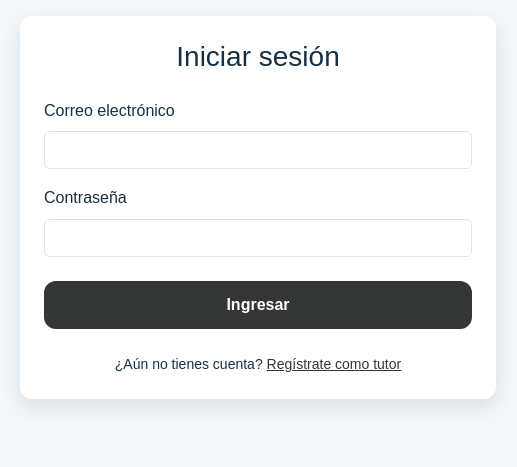
it: Login › con credenciales incorrectas muestra el error y no guarda sesión
The width and height of the screenshot is (517, 467).
Type "ana@correo.cl" into the field labelled "Correo electrónico" at (258, 150), box [44,131,472,169]
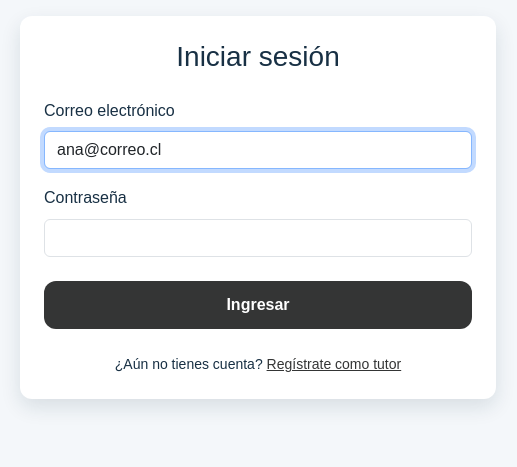
Type "mala" into the password field labelled "Contraseña" at (258, 238), box [44,219,472,257]
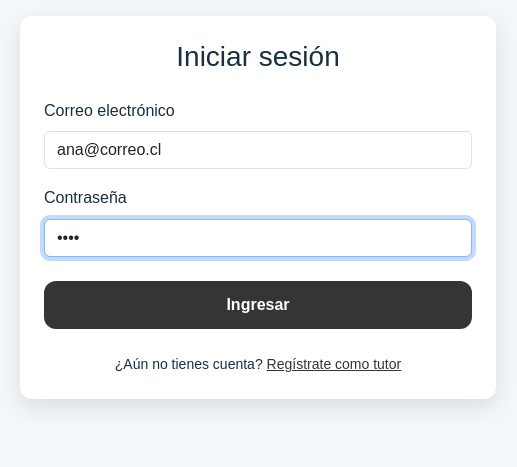
Click the button "Ingresar" at (258, 305), box [44,281,472,329]
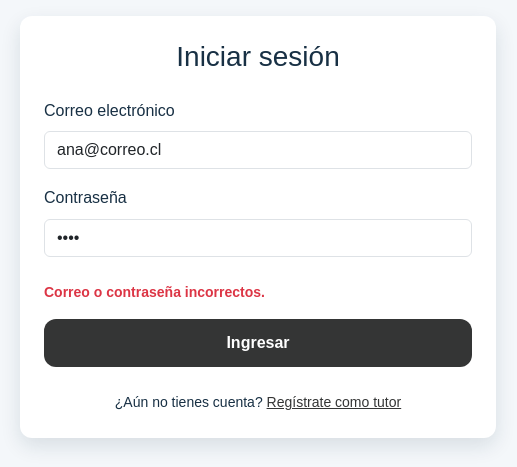
Now the message reads "Correo o contraseña incorrectos.", box [44,284,265,300]
